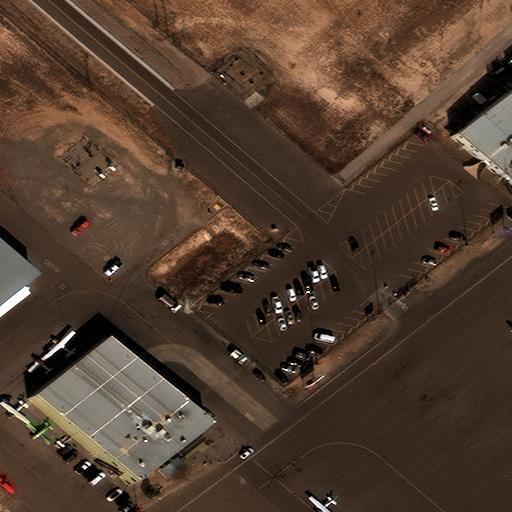Small Civil Transport: (42, 330, 73, 358), (0, 401, 28, 425), (25, 424, 50, 446), (309, 494, 339, 512), (28, 353, 50, 372), (0, 472, 15, 491)
